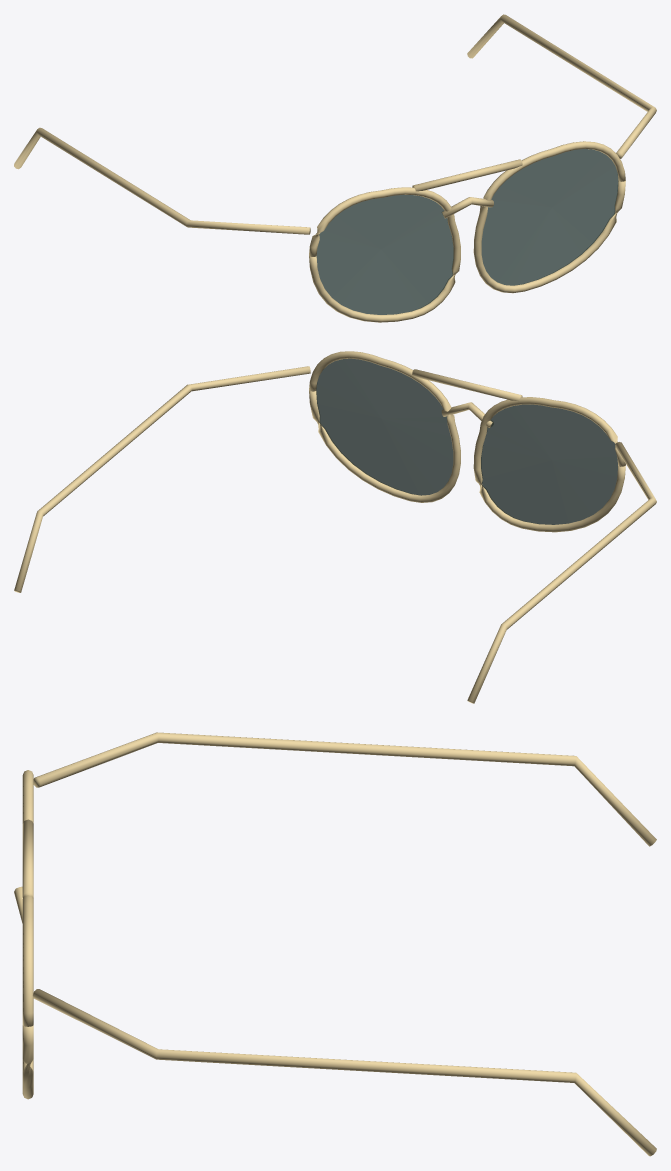
Rendered from acc_glasses_aviator_male.glb.
3 renders of one model, top to bottom at view 1: azimuth 30°, elevation 25°; view 2: azimuth 150°, elevation 25°; view 3: azimuth 270°, elevation 25°, orthographic. The views are drawn at different scales.
Visible parts, largest first — view 1: glasses_aviator; view 2: glasses_aviator; view 3: glasses_aviator.
Part boxes in pixels (<box>): glasses_aviator: <box>14,14,656,322</box>; glasses_aviator: <box>14,351,656,703</box>; glasses_aviator: <box>14,732,656,1156</box>.
Size of the model in its own units: 0.1766 by 0.049 by 0.1493.
